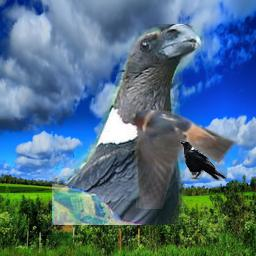Crow: (52, 24, 204, 225), (180, 139, 227, 181)
Swallow: (128, 105, 237, 209)
